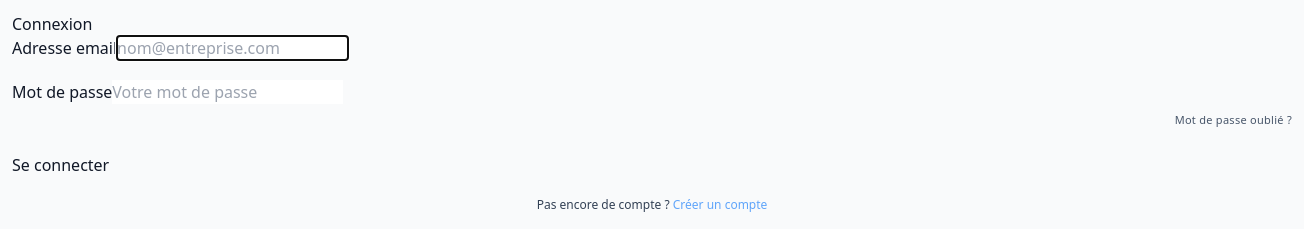
Test: LoginPage › validation du champ email › devrait afficher un message d erreur si l email est vide
When — soumission sans remplir l email
Click the button "Se connecter". click: x=61, y=164
box: [12, 152, 109, 176]
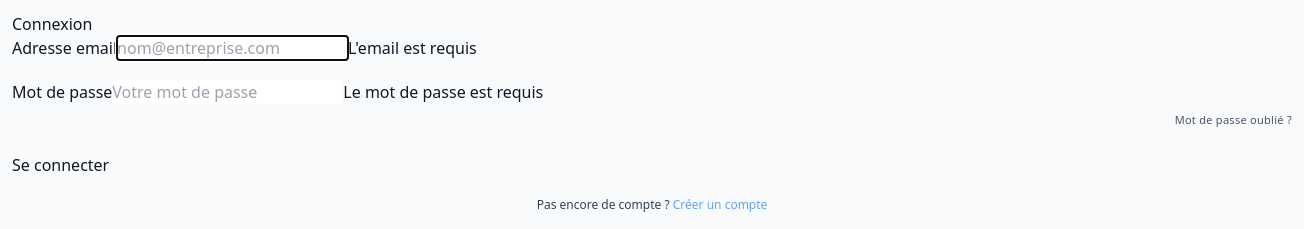
Check: the message "L'email est requis" is shown, box [348, 37, 477, 59]
